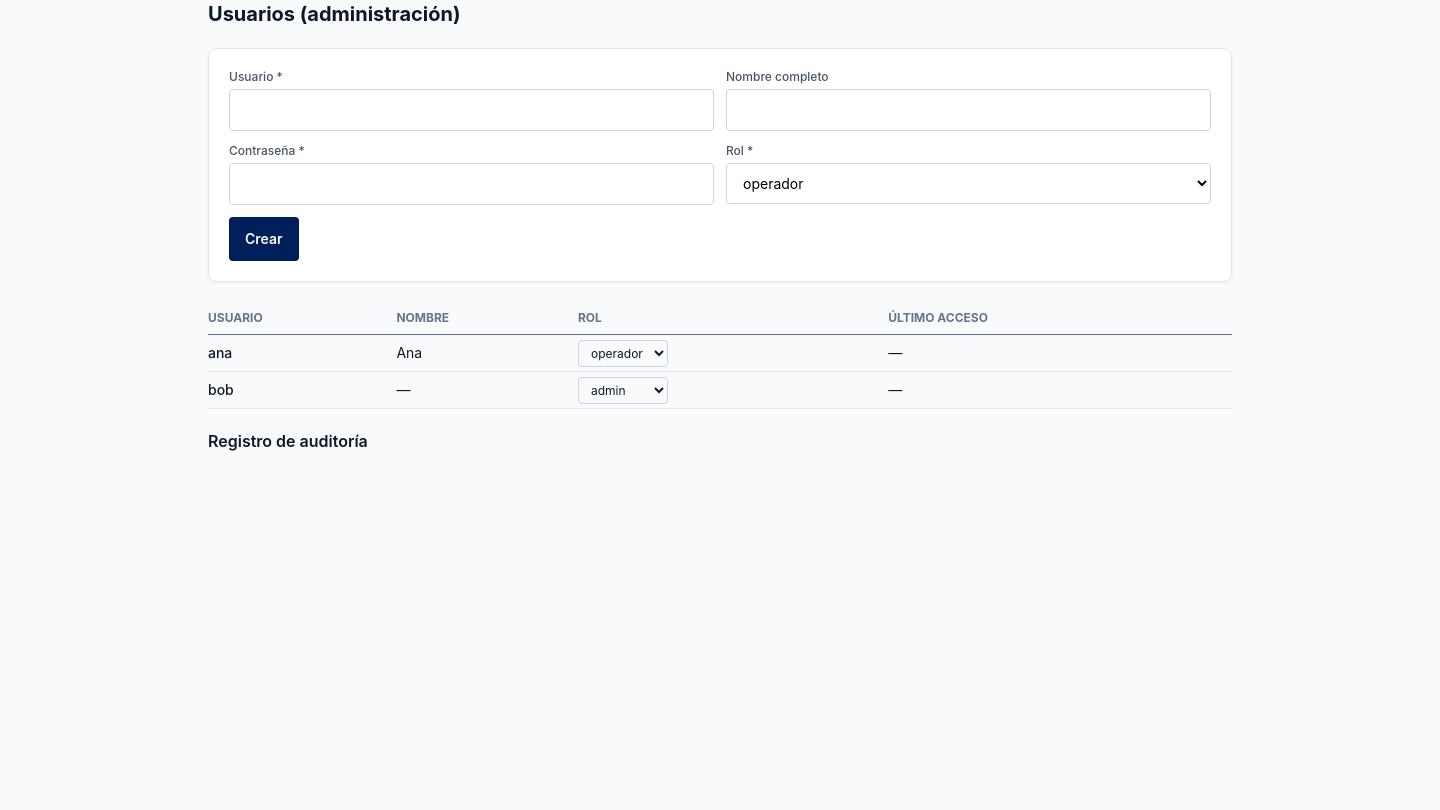
Scenario: AdminUsersPage › does NOT change the role until the operator confirms in the dialog
// Change ana's role select to admin.
Select "admin" in the dropdown named "Rol de ana" at x=623, y=353, box [578,340,668,366]
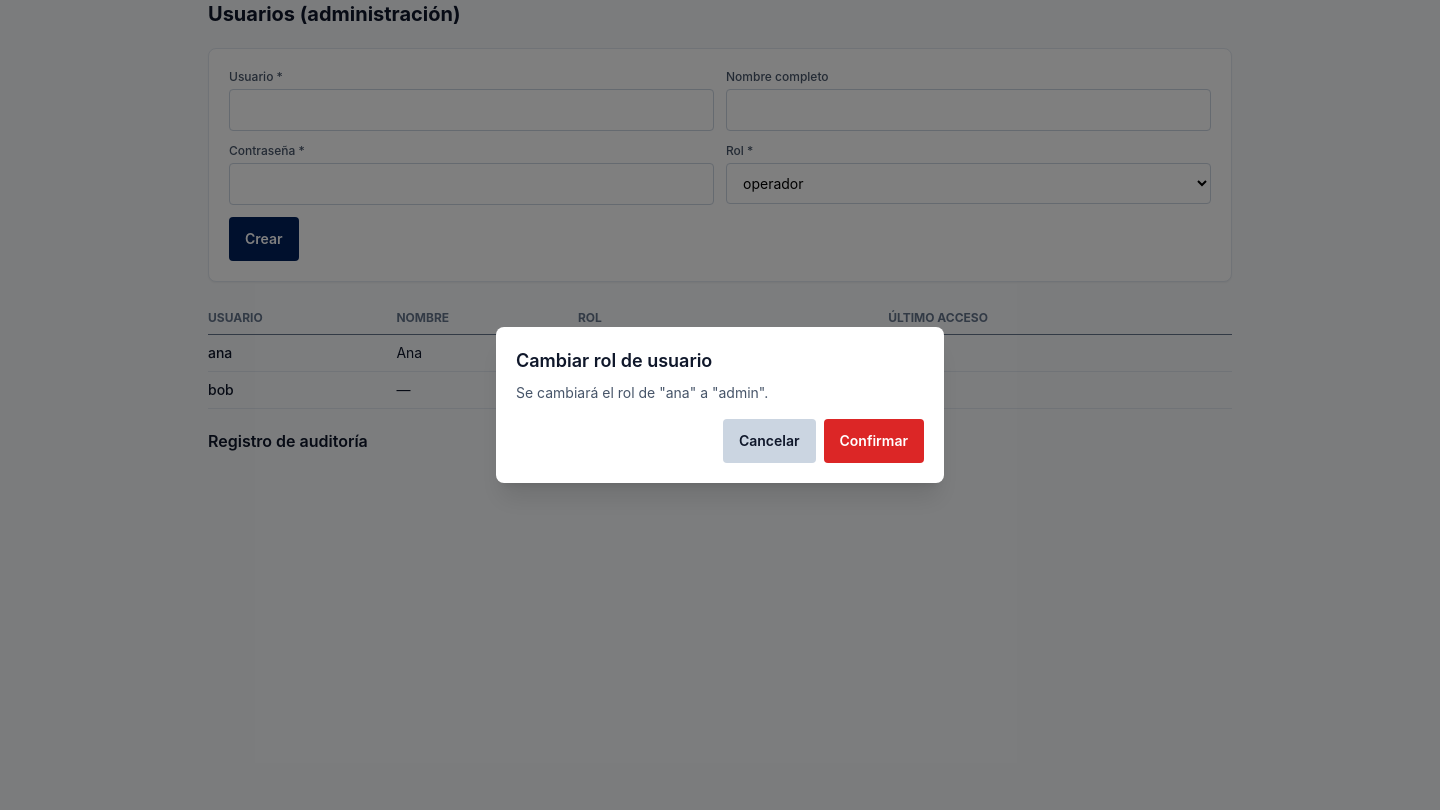
Result: the dialog is shown
